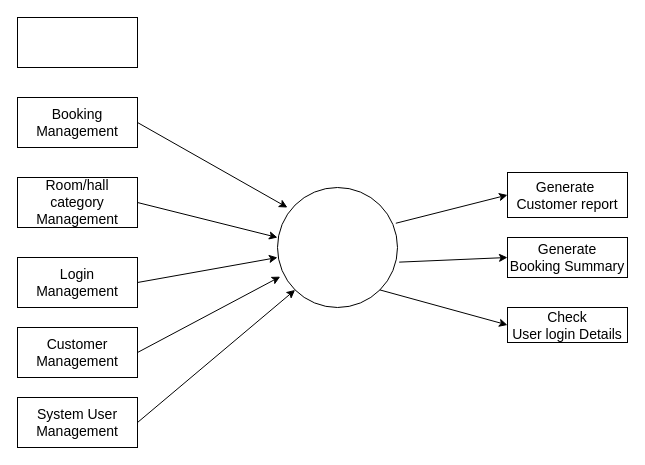
This 645x465 diagram has some shape labels left out. Each missing label, with the centre of its shape:
Hotel Management: pixel 77 42
Hotel room/Hall booking: pixel 337 247
